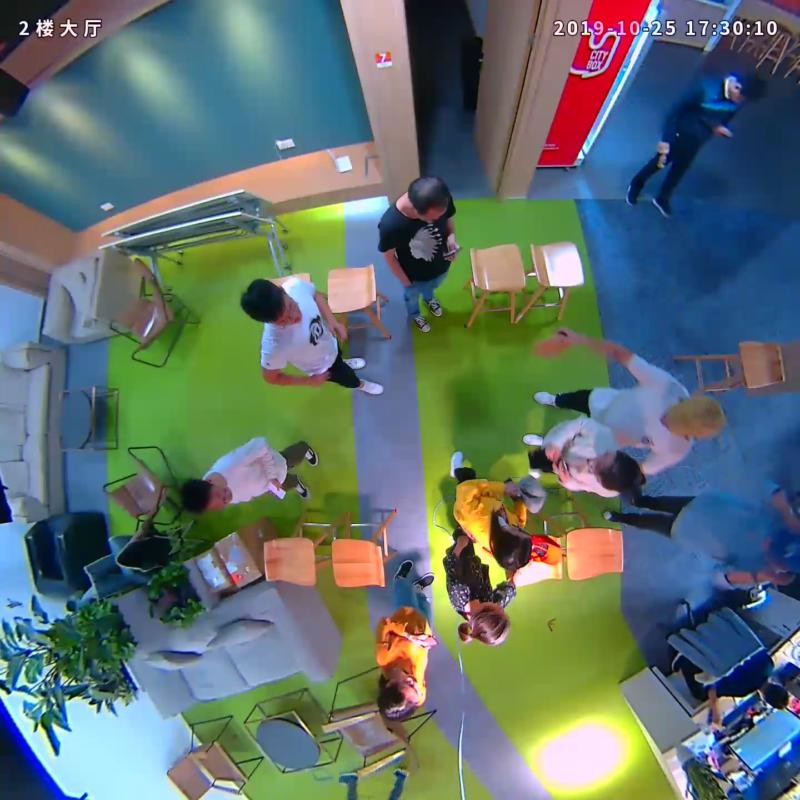head: (664, 392, 726, 440), (239, 279, 299, 326), (591, 451, 645, 495), (379, 669, 421, 722), (466, 600, 512, 645), (406, 176, 451, 221), (180, 477, 233, 515), (762, 526, 800, 578), (495, 522, 533, 571), (727, 73, 765, 103)
